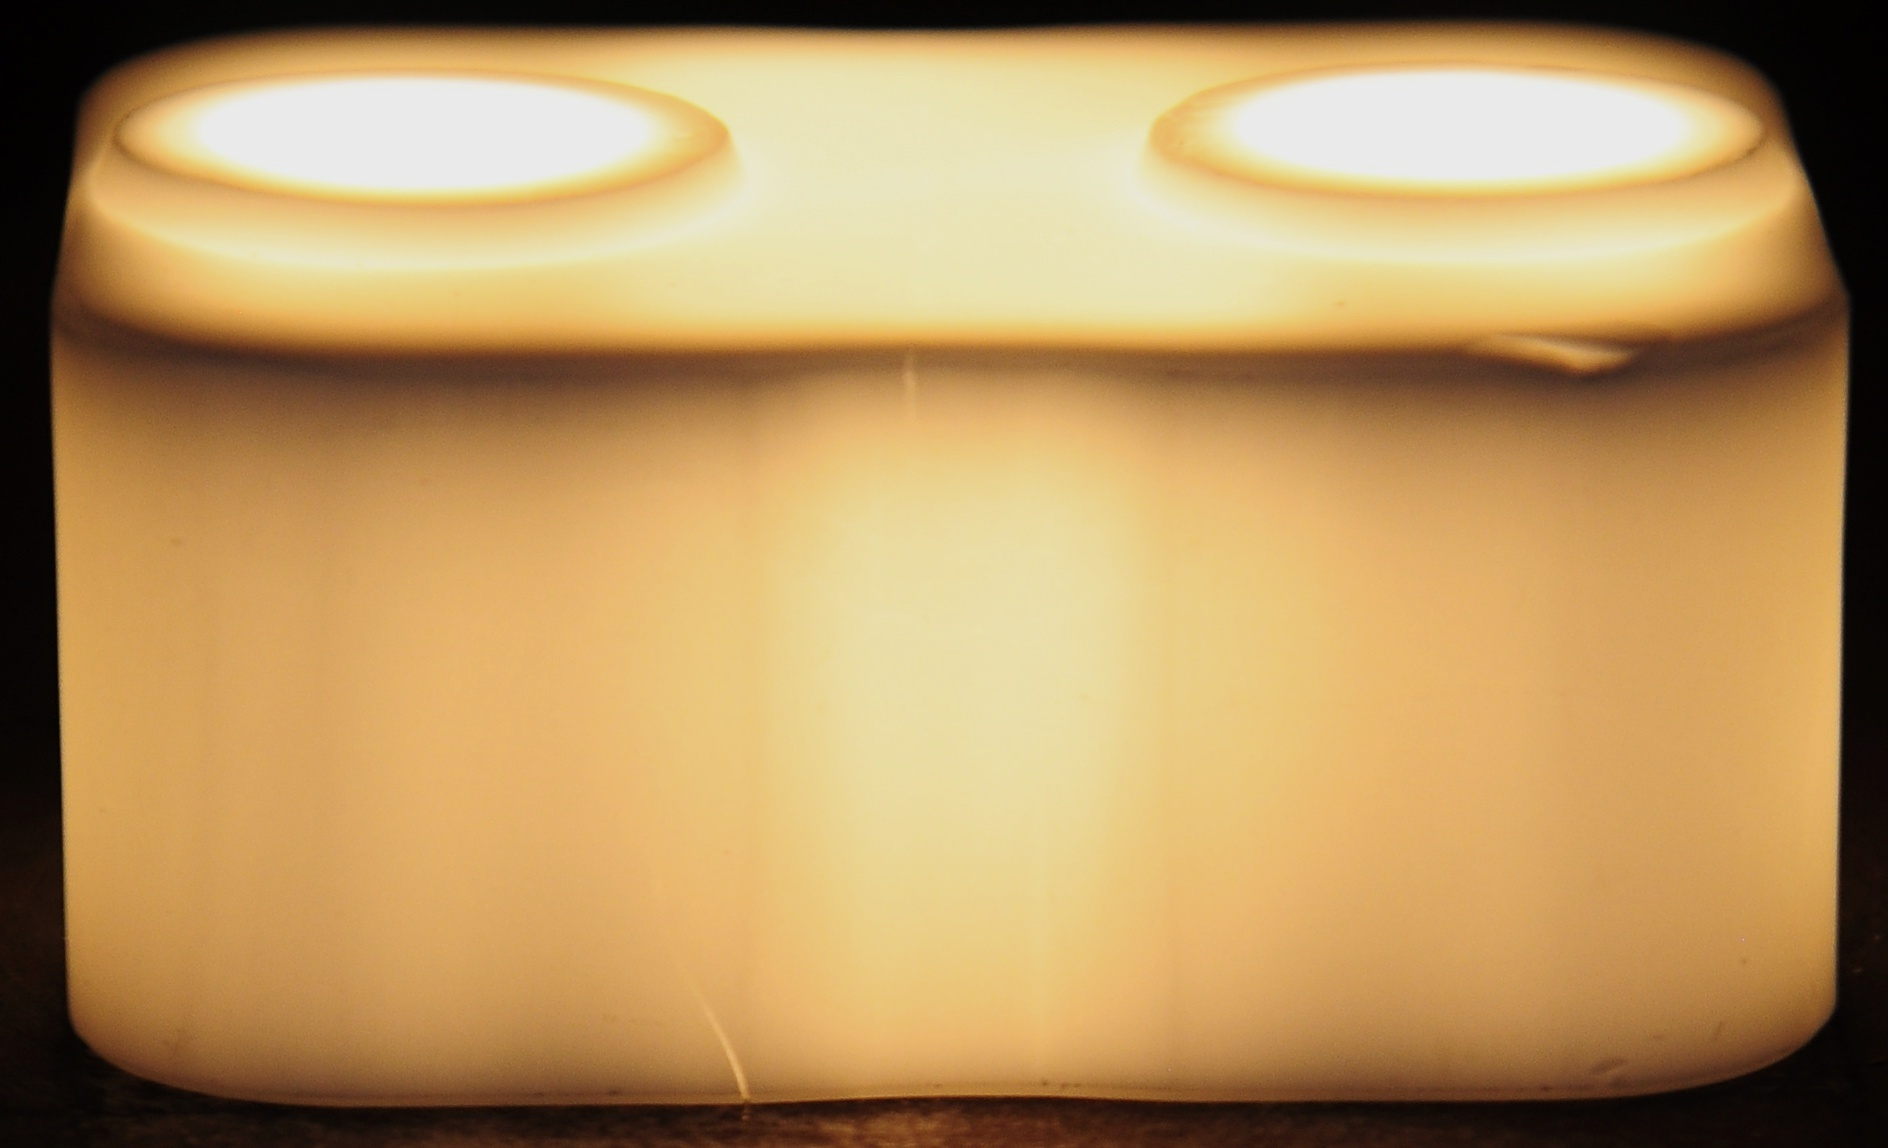chipping: (1427, 325, 1671, 398)
flaw: (686, 940, 761, 1103)
hiatus: (1568, 1040, 1634, 1094)
scratch: (883, 343, 932, 483)
